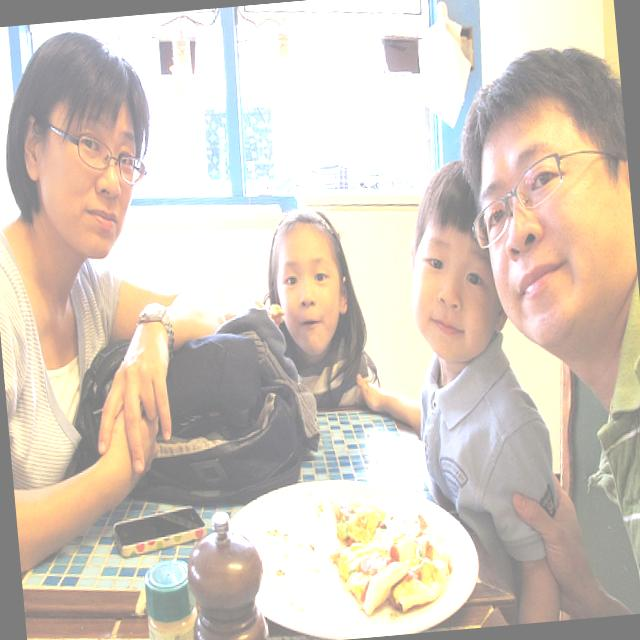Vehicle: (272, 148, 427, 206)
